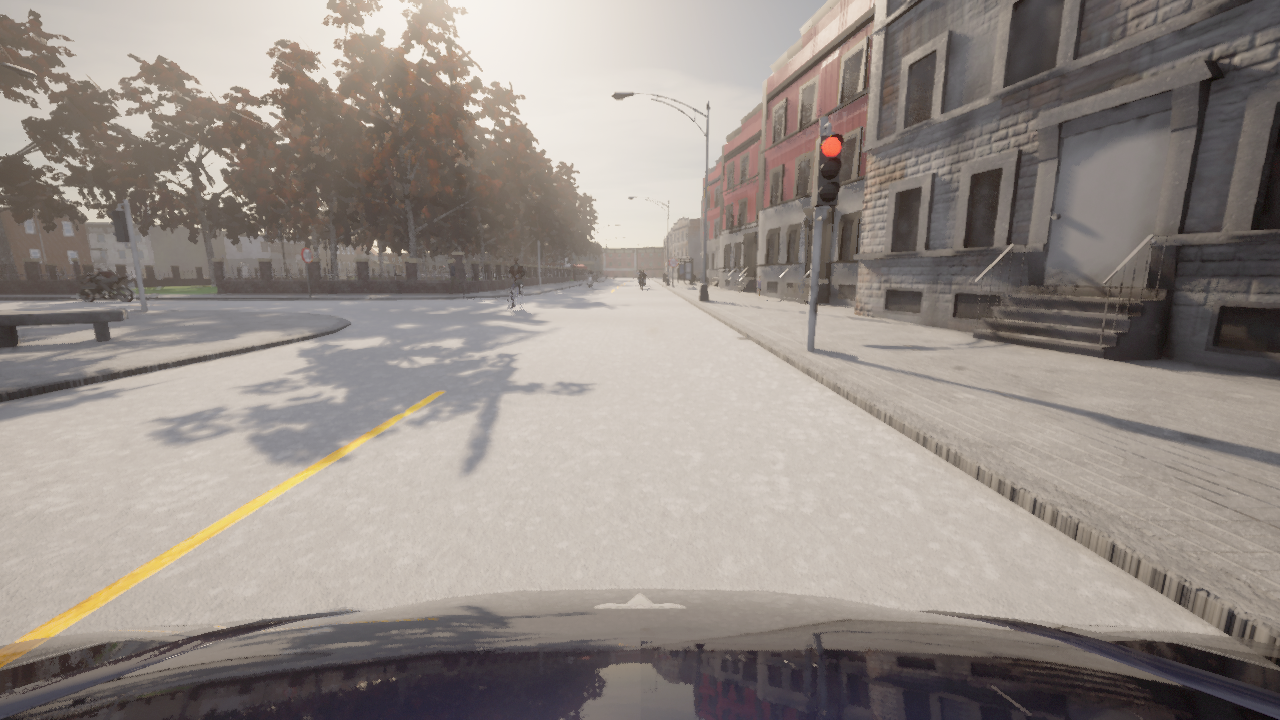cyclist: (0, 588, 1279, 719), (77, 273, 136, 301), (509, 276, 522, 311), (585, 273, 595, 288), (639, 275, 643, 288), (597, 280, 599, 285), (1, 276, 2, 277)
pedestrian: (449, 260, 464, 294), (754, 275, 765, 299), (522, 275, 526, 287)
